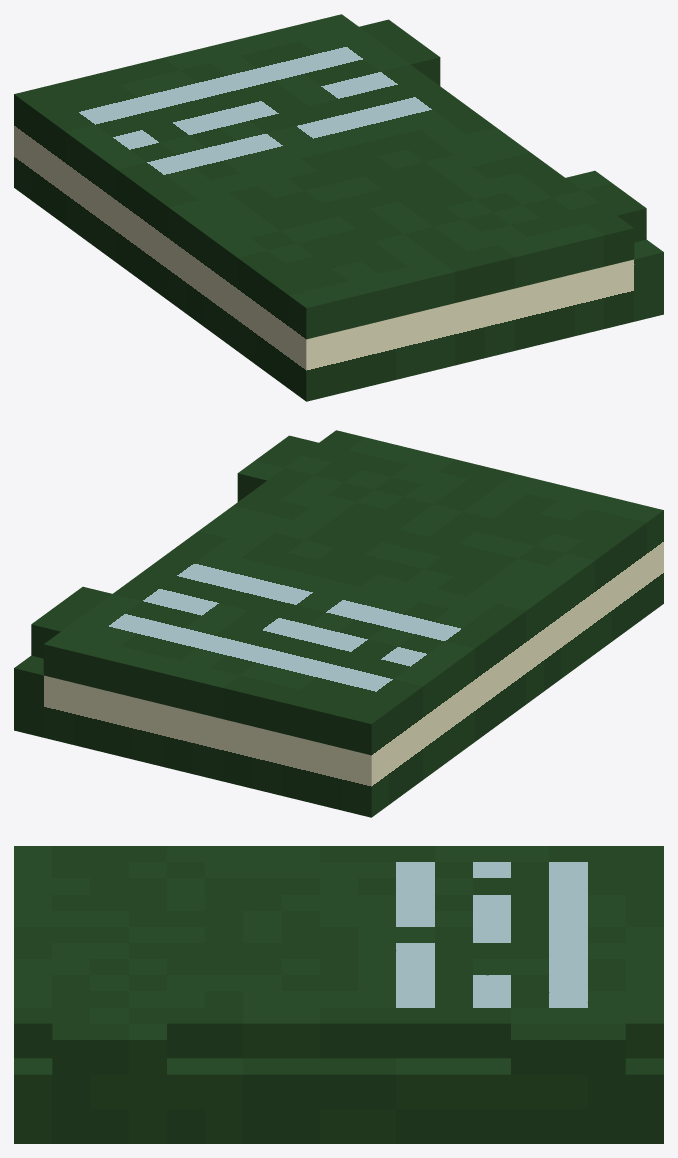
The picture shows the model from 3 angles, top to bottom: view 1: azimuth 30°, elevation 25°; view 2: azimuth 150°, elevation 25°; view 3: azimuth 270°, elevation 25°; orthographic projection. The views are drawn at different scales.
Parts seen in each view (by area): view 1: Content; view 2: Content; view 3: Content.
Part boxes in pixels (bbox=[...]): Content: bbox=[14, 14, 663, 401]; Content: bbox=[14, 430, 663, 817]; Content: bbox=[14, 846, 663, 1143].
Size of the model in its own units: 12 by 3 by 17.
1 material, 1 textured.
